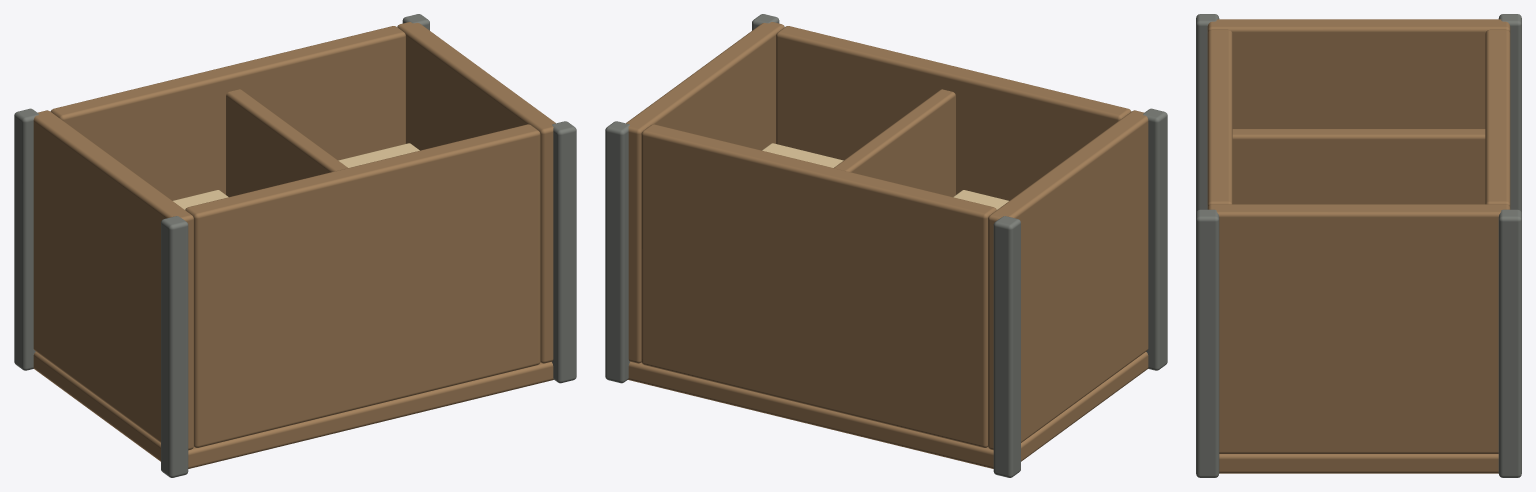
Rendered from divided-grain-storage-b.glb.
The picture shows the model from 3 angles, left to right: view 1: azimuth 30°, elevation 25°; view 2: azimuth 150°, elevation 25°; view 3: azimuth 270°, elevation 25°; orthographic projection. The views are drawn at different scales.
Visible parts, largest first — view 1: divided-grain-storage-bin; view 2: divided-grain-storage-bin; view 3: divided-grain-storage-bin.
Boxes of the visible parts, x1,y1,x2,y2 form: divided-grain-storage-bin: (14,14,576,477); divided-grain-storage-bin: (605,14,1167,477); divided-grain-storage-bin: (1196,14,1521,477).
Bounding box in the file's own units: 1.37 × 0.8113 × 0.9151.
